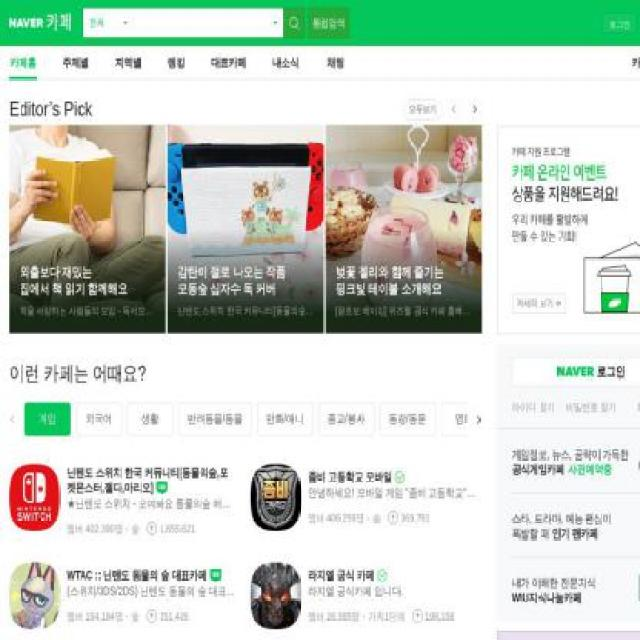button: (9, 124, 166, 333), (326, 124, 482, 333), (168, 124, 323, 333), (8, 464, 241, 538), (8, 562, 241, 630), (250, 562, 482, 630), (250, 464, 482, 531), (512, 429, 639, 494), (512, 494, 639, 558), (512, 557, 639, 621), (512, 357, 639, 388), (178, 402, 252, 436), (552, 402, 618, 436), (378, 402, 436, 436), (256, 402, 313, 436), (318, 402, 374, 436), (492, 402, 548, 436), (439, 402, 487, 436), (24, 402, 70, 436), (127, 402, 173, 436), (83, 8, 134, 38), (76, 402, 121, 436), (308, 7, 349, 38), (210, 46, 247, 80), (272, 46, 302, 80), (9, 46, 37, 80), (554, 400, 617, 415), (62, 46, 89, 80), (115, 46, 142, 80), (403, 99, 442, 119), (282, 7, 306, 38), (602, 13, 636, 33), (326, 46, 345, 80), (9, 399, 25, 439), (467, 398, 482, 440), (512, 400, 554, 415), (167, 46, 185, 80), (622, 402, 640, 436), (268, 8, 283, 38), (447, 99, 462, 119), (467, 99, 482, 119), (632, 46, 639, 80), (637, 399, 640, 416)
field: (134, 8, 268, 38)
